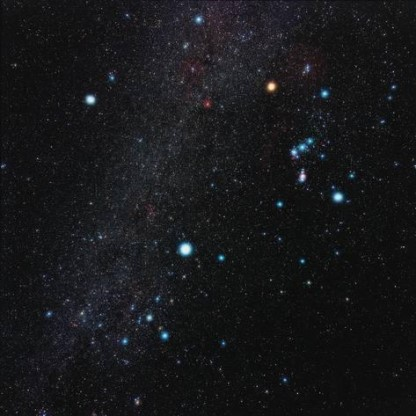Orion: (325, 186, 349, 207), (271, 194, 291, 212), (314, 83, 332, 103), (259, 74, 278, 91), (306, 130, 318, 149), (286, 143, 296, 161), (297, 138, 306, 157)
